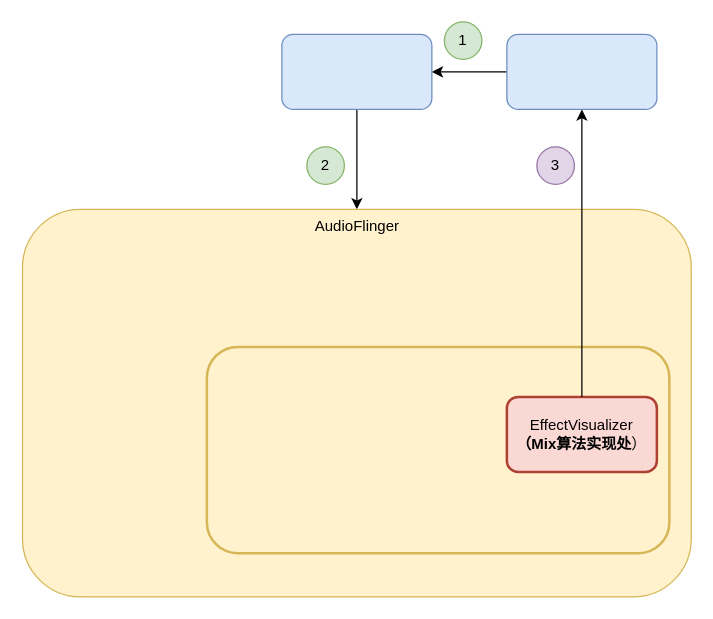
This 713x619 diagram has some shape labels left out. The shapes that lost their labels are listed below. From the top down, each one's box as (x1, y1, x2, y2) in pixels, then its label:
(281, 33, 432, 109): AudioTrack
(506, 33, 657, 109): APP
(205, 345, 670, 554): AudioEffect
